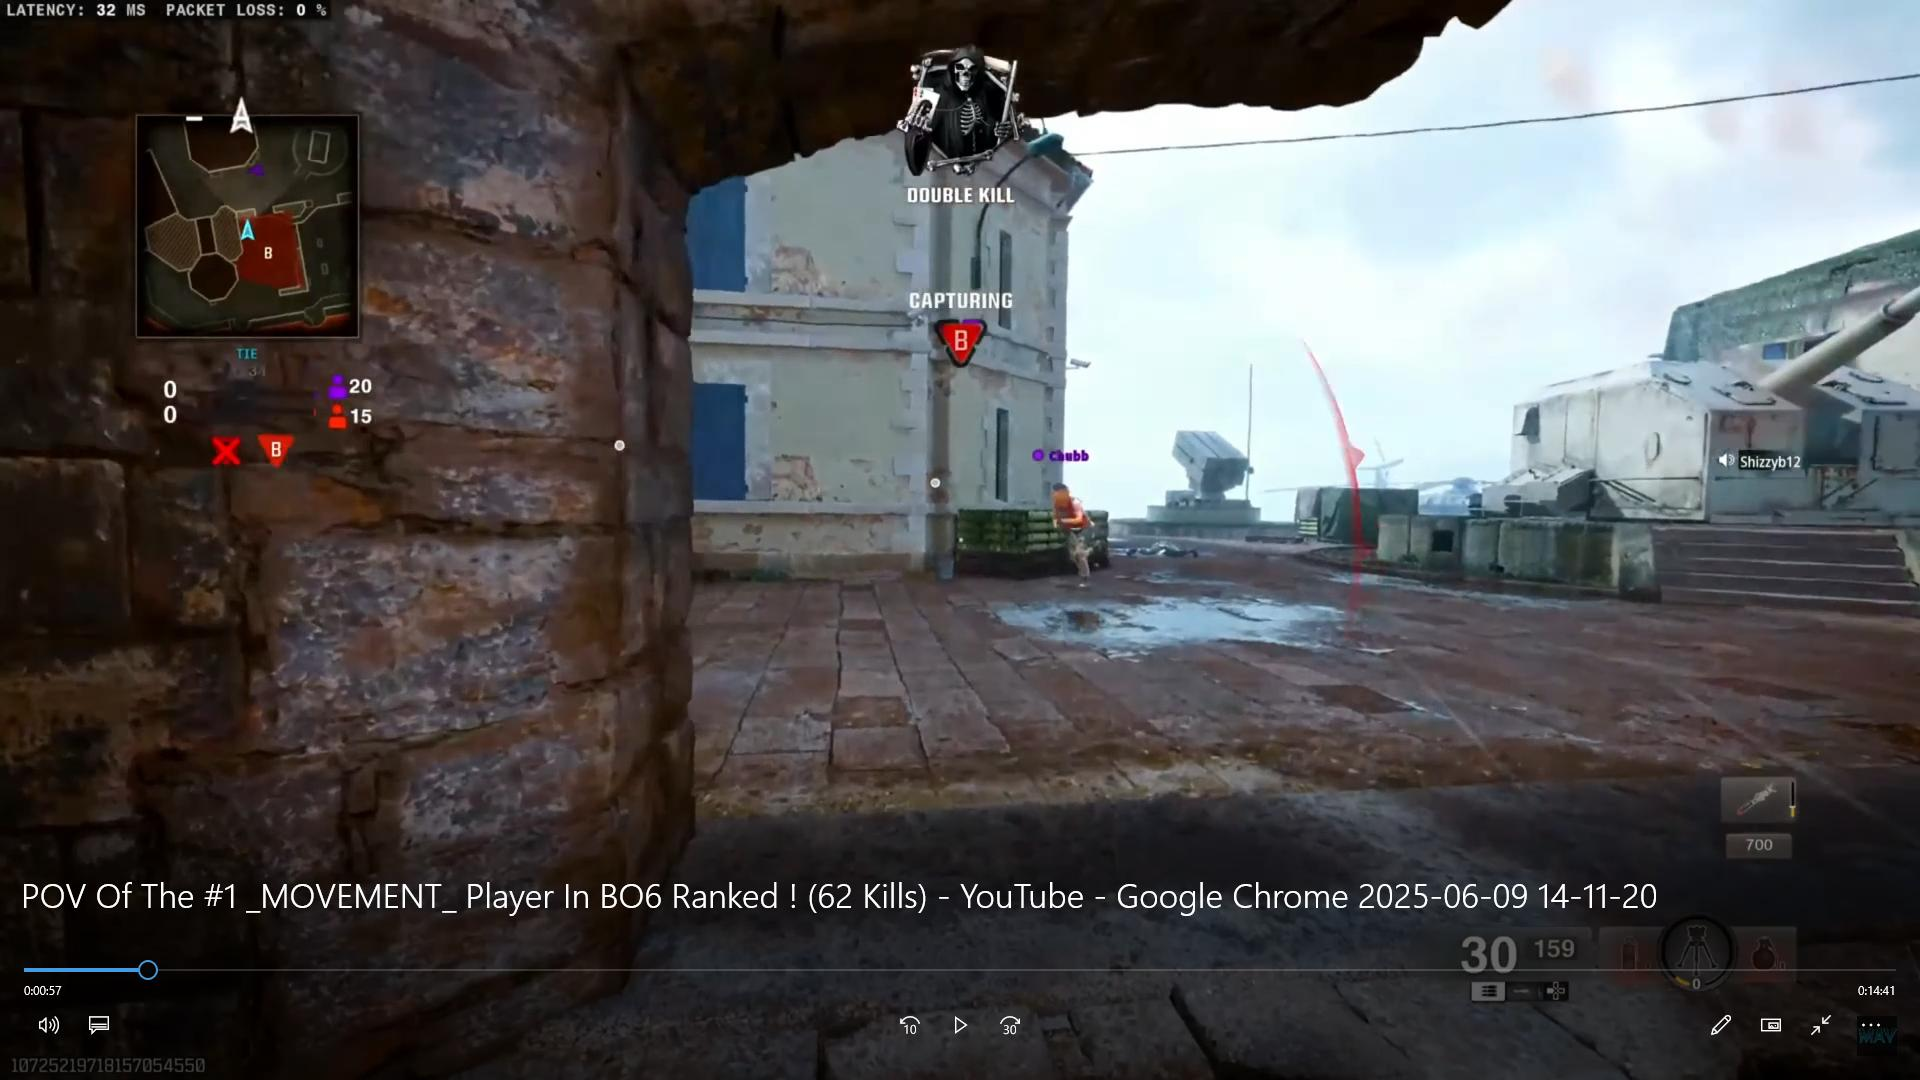Enemy: (1039, 471, 1114, 589)
